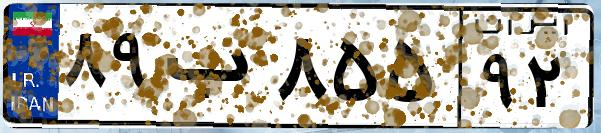2: (525, 38, 570, 115)
5: (385, 28, 445, 110), (330, 28, 385, 110)
8: (270, 28, 330, 110), (57, 26, 110, 100)
9: (475, 38, 525, 113), (110, 28, 158, 98)
ب: (158, 20, 270, 120)
